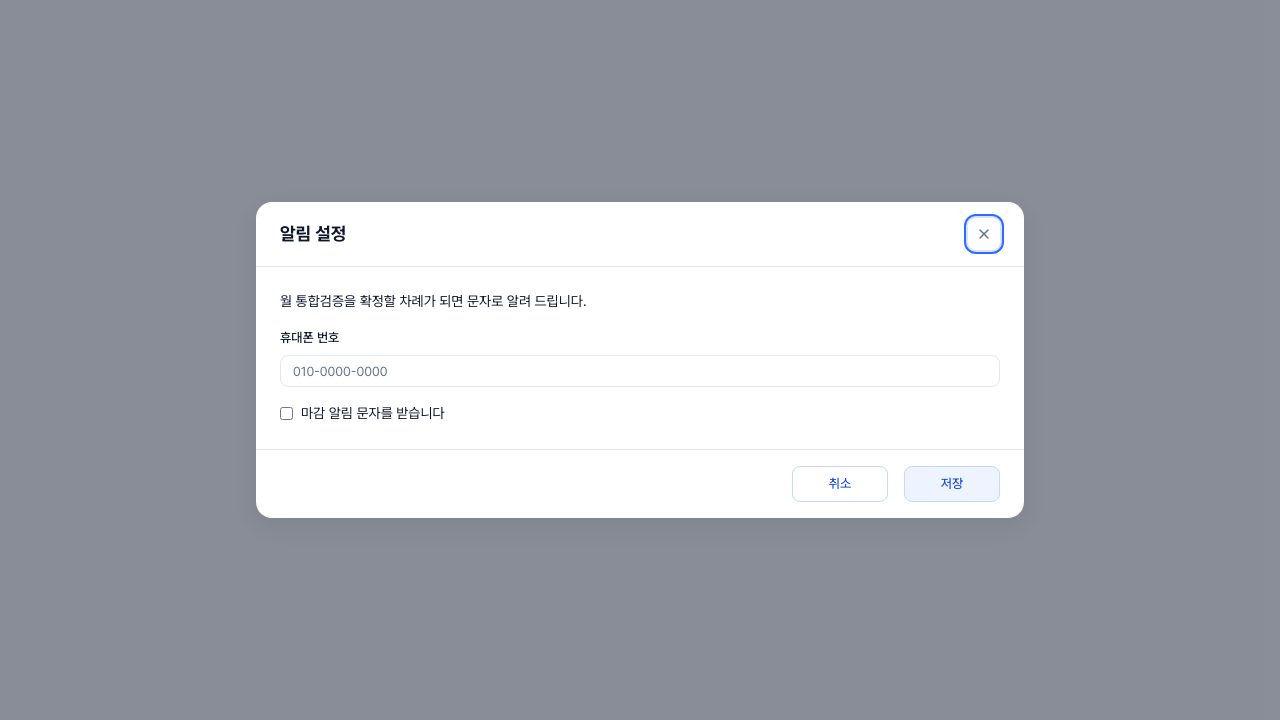
Test: 알림 설정 창 › 저장이 실패하면 창을 닫지 않고 서버가 준 사유를 보여 준다
Type "01000000102" into the field labelled "휴대폰 번호" at (640, 371), box [280,355,1000,387]
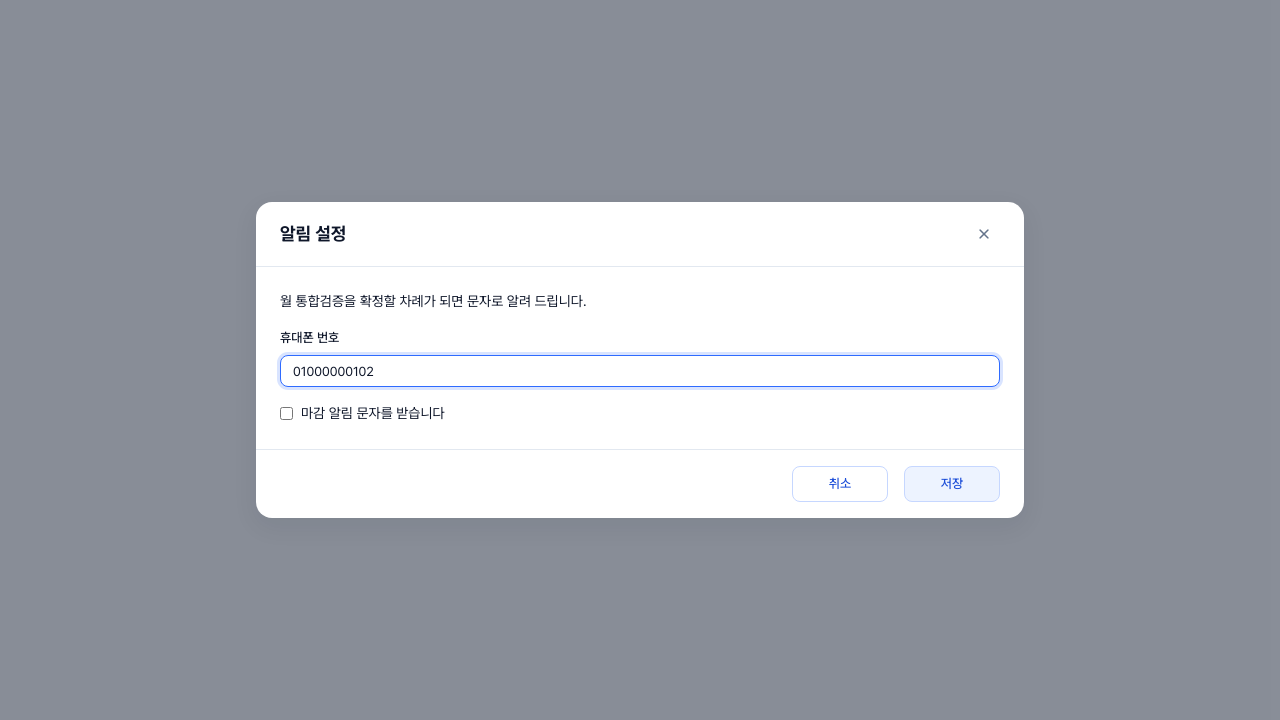
Click the checkbox labelled "마감 알림 문자를 받습니다" at (286, 414), box [280,408,293,420]
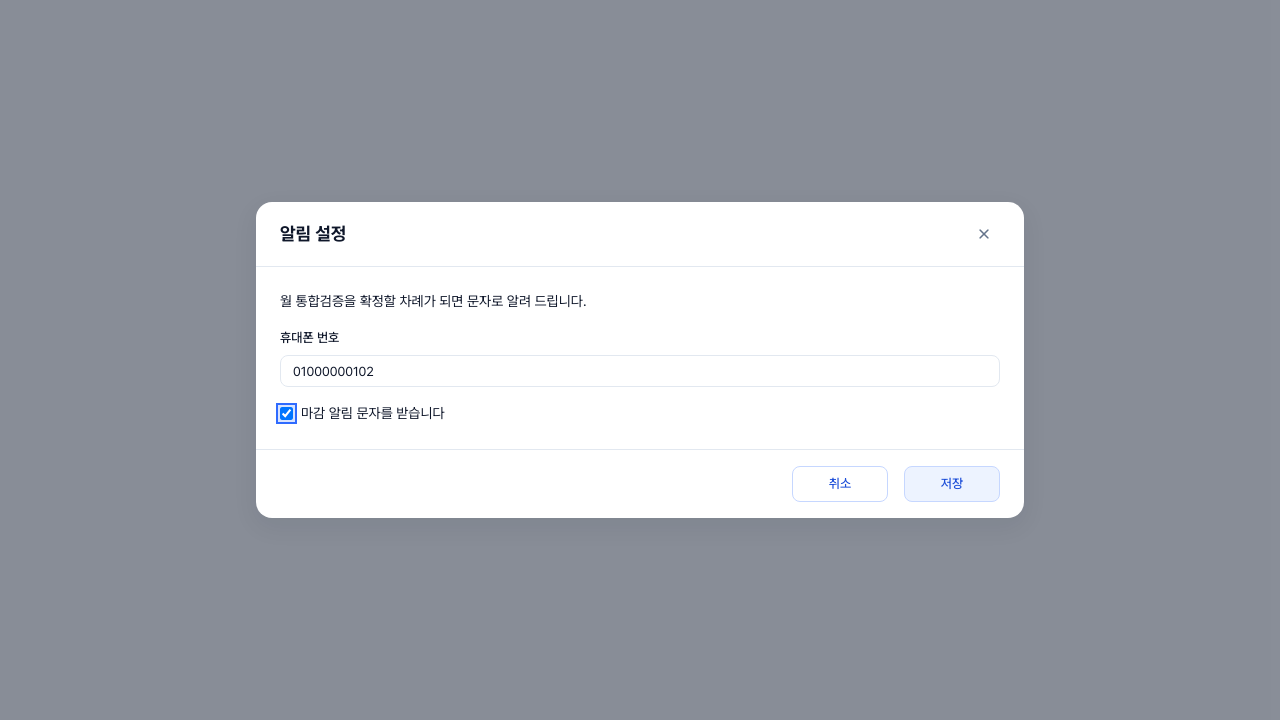
Click the button "저장" at (952, 484), box [904,466,1000,502]
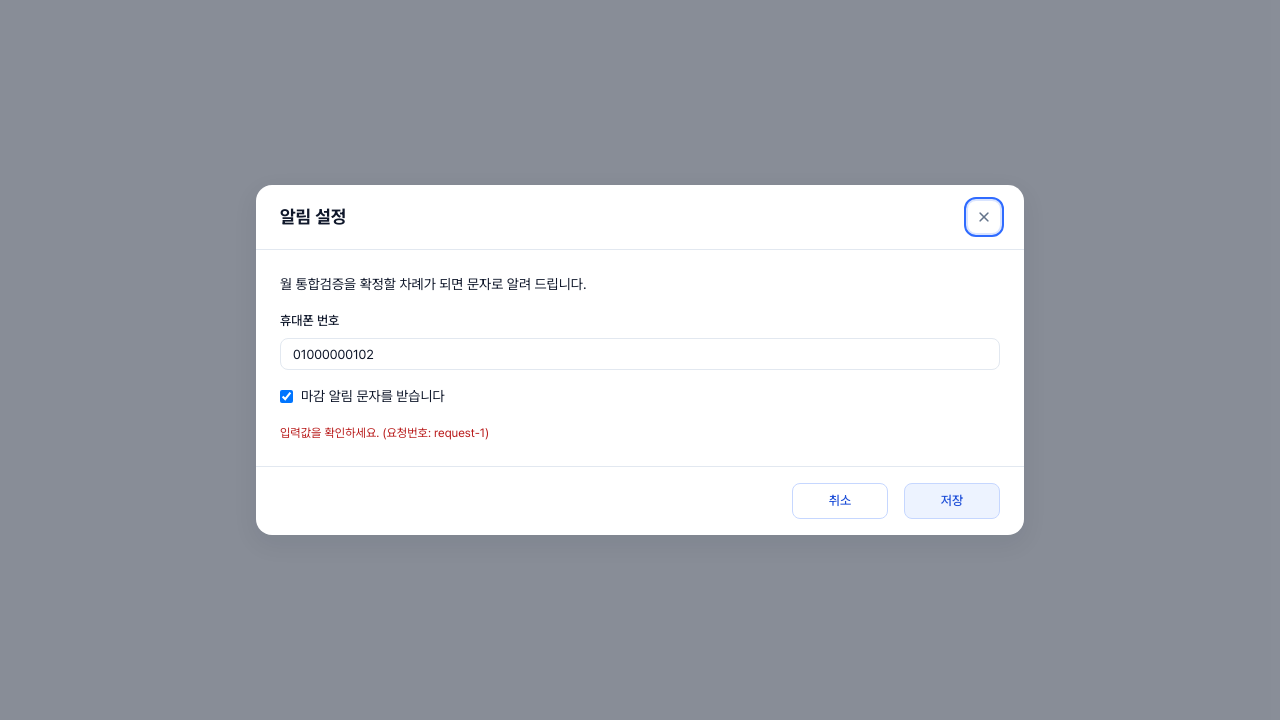
expect the message shows "입력값을 확인하세요.": met, box [280,426,489,440]
